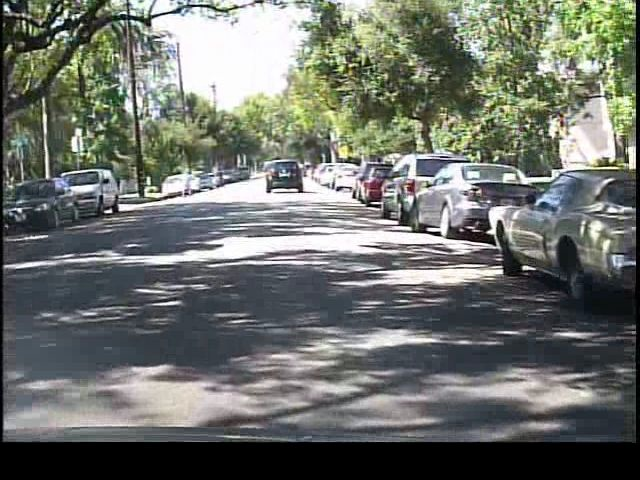person: (179, 165, 196, 201)
